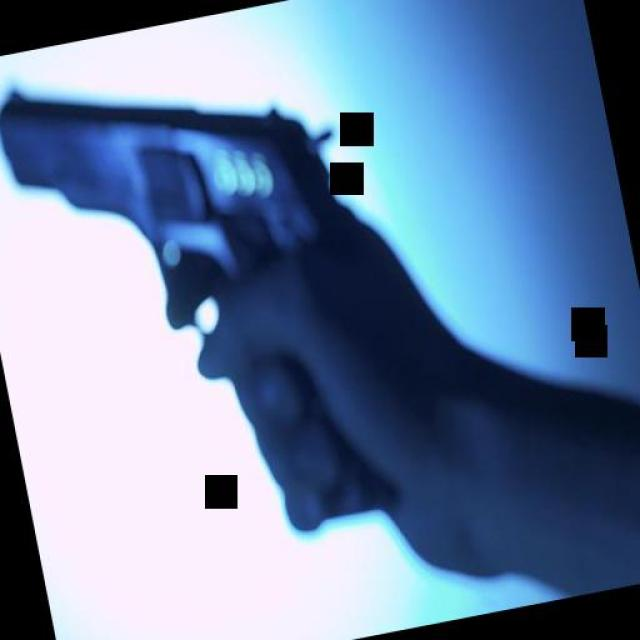gun: (0, 18, 411, 580)
